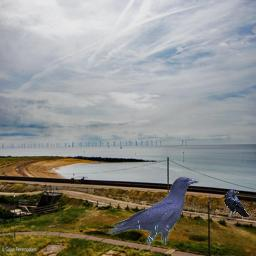Crow: (107, 176, 199, 250), (224, 190, 250, 218)
